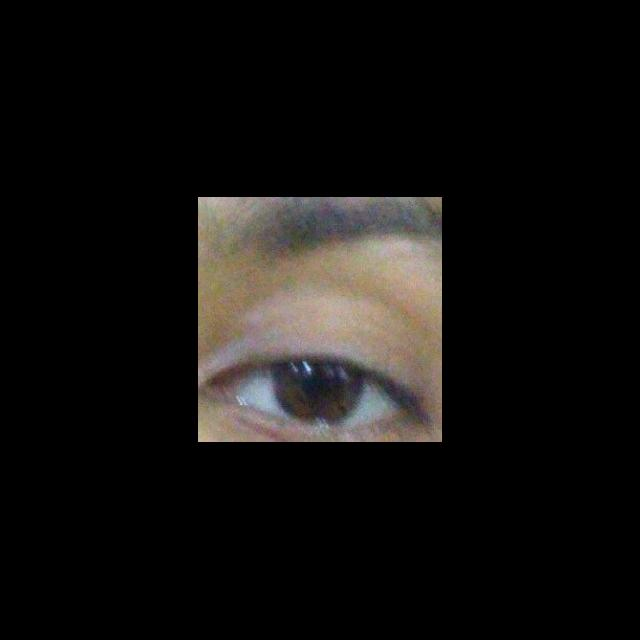eye: (238, 358, 399, 427)
iris: (271, 360, 363, 421)
